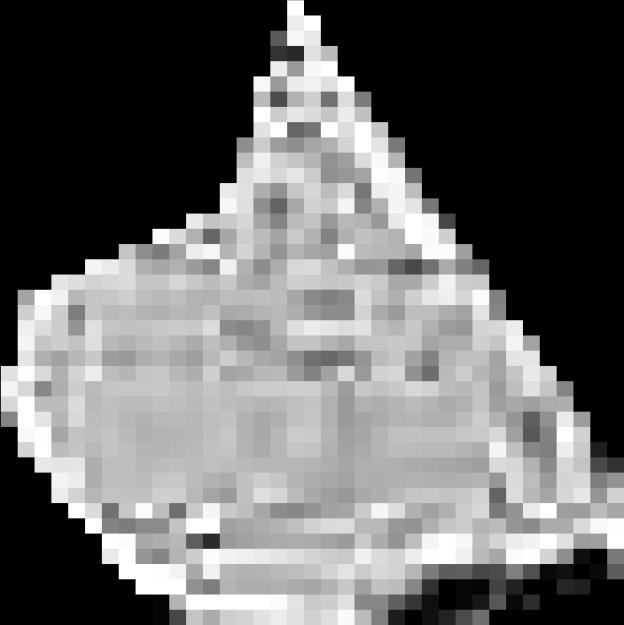tumor_good_chance: (1, 0, 624, 625)
